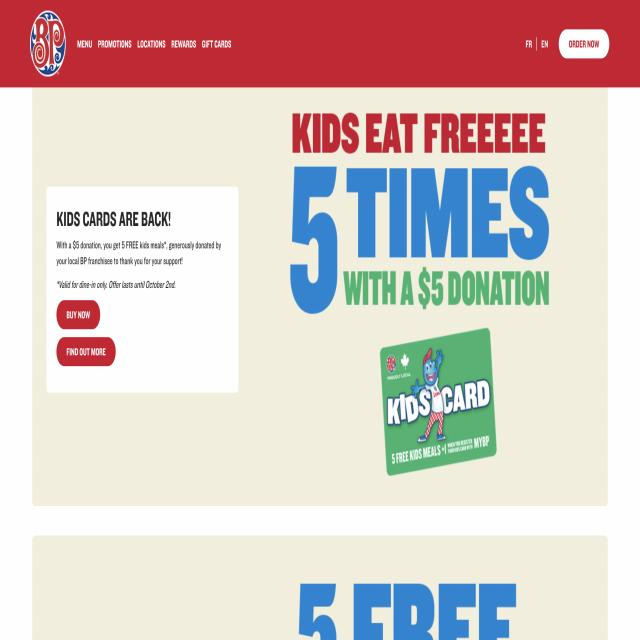Logo: (22, 7, 68, 87)
Navigation: (70, 14, 240, 61)
